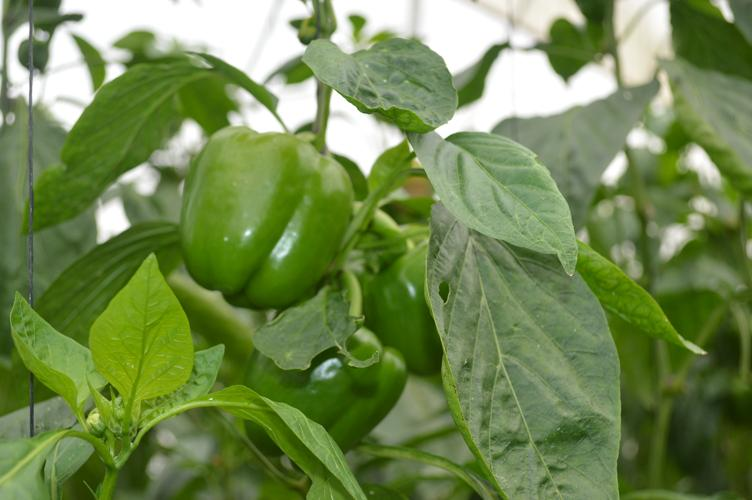BellPepper: (174, 124, 348, 300), (248, 324, 402, 454), (363, 241, 444, 367)
